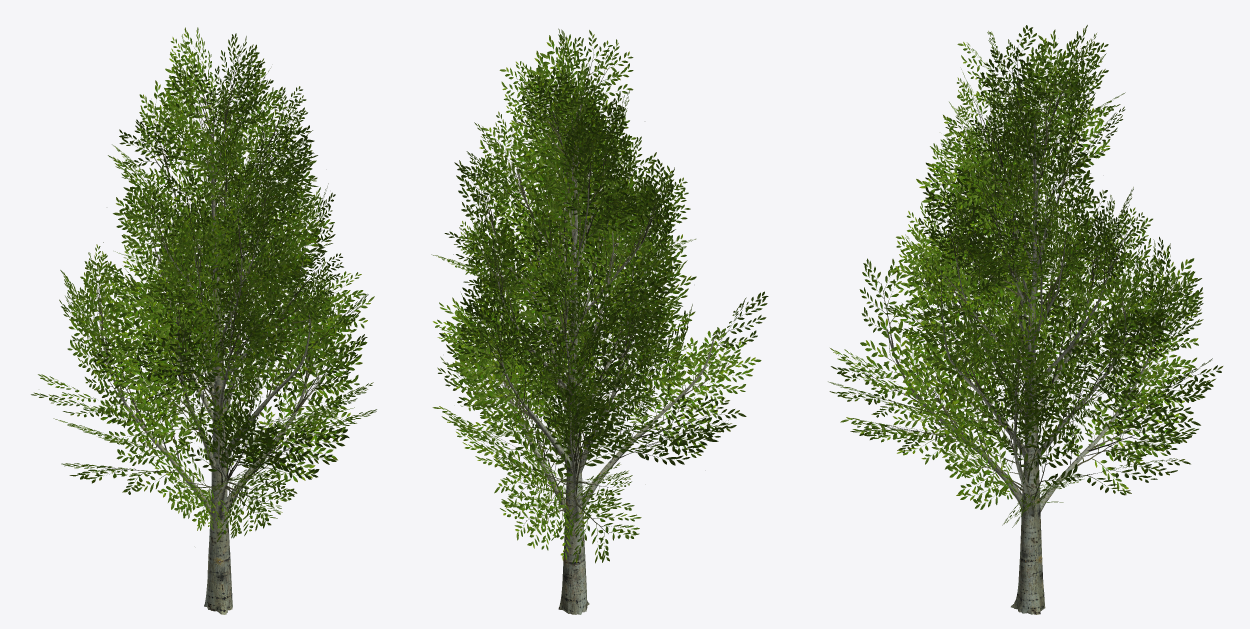
The model's file is Arbol.obj.
The picture shows the model from 3 angles, left to right: view 1: azimuth 30°, elevation 25°; view 2: azimuth 150°, elevation 25°; view 3: azimuth 270°, elevation 25°; orthographic projection. The views are drawn at different scales.
Parts seen in each view (by area): view 1: g2, g1; view 2: g2, g1; view 3: g2, g1.
Part boxes in pixels (x1=…): g2: x1=31, y1=27, x2=376, y2=541; g1: x1=99, y1=93, x2=310, y2=614; g2: x1=431, y1=28, x2=768, y2=563; g1: x1=490, y1=92, x2=714, y2=614; g2: x1=828, y1=25, x2=1222, y2=527; g1: x1=887, y1=77, x2=1157, y2=614.
Size of the model in its own units: 3.51 by 7.14 by 4.56.
2 materials, 2 textured.
